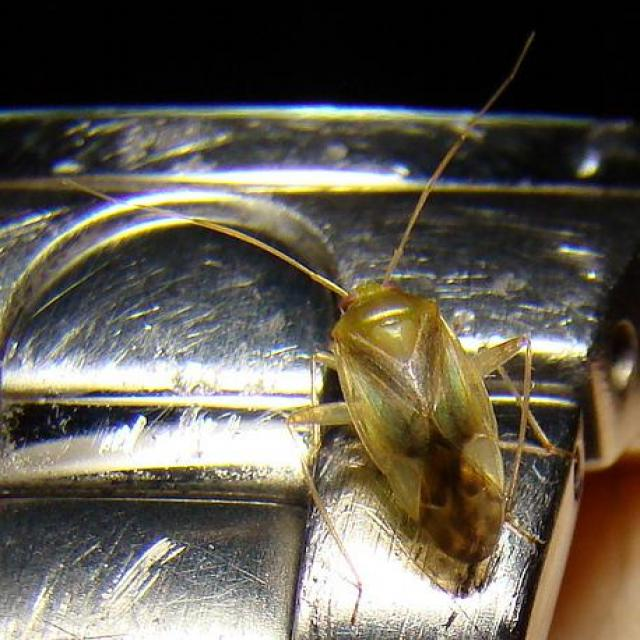Miridae-Adult-: (90, 33, 578, 586)
